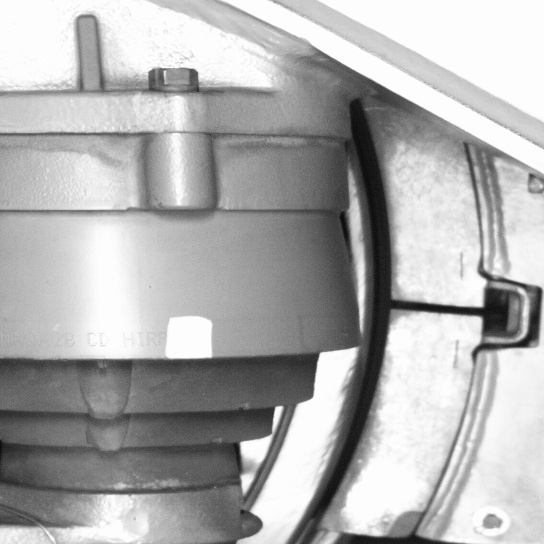KnifeSwitch: (284, 135, 503, 541)
